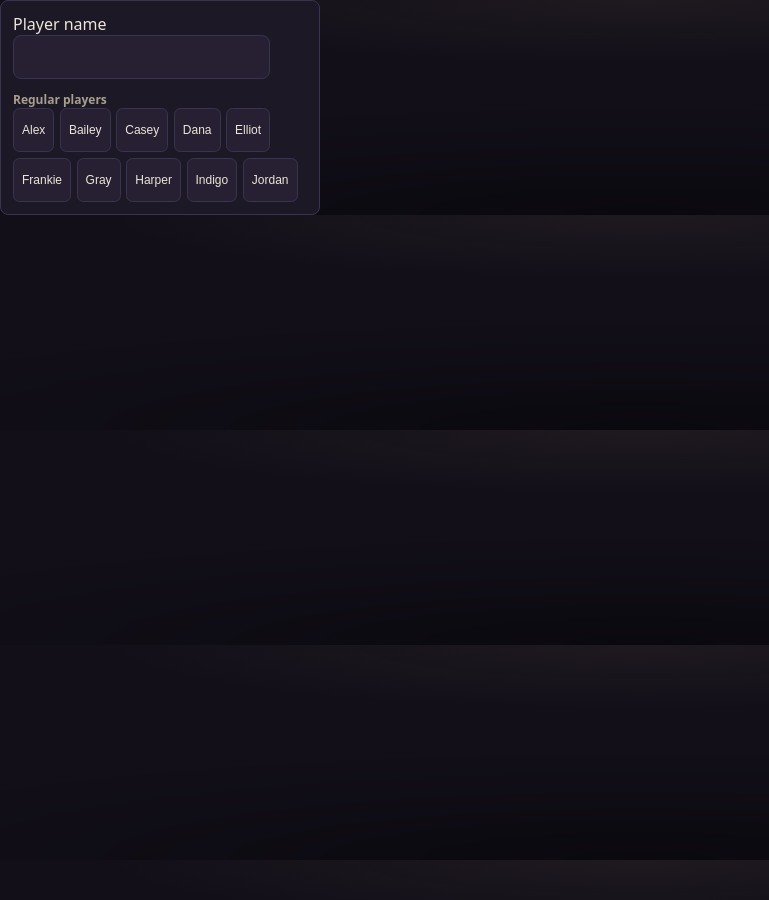
Scenario: a single merged input for searching and naming (issue #157) › narrows the list to names matching the typed text, case-insensitively
Type "jor" into the field at (142, 57), box 13,35 -> 270,79
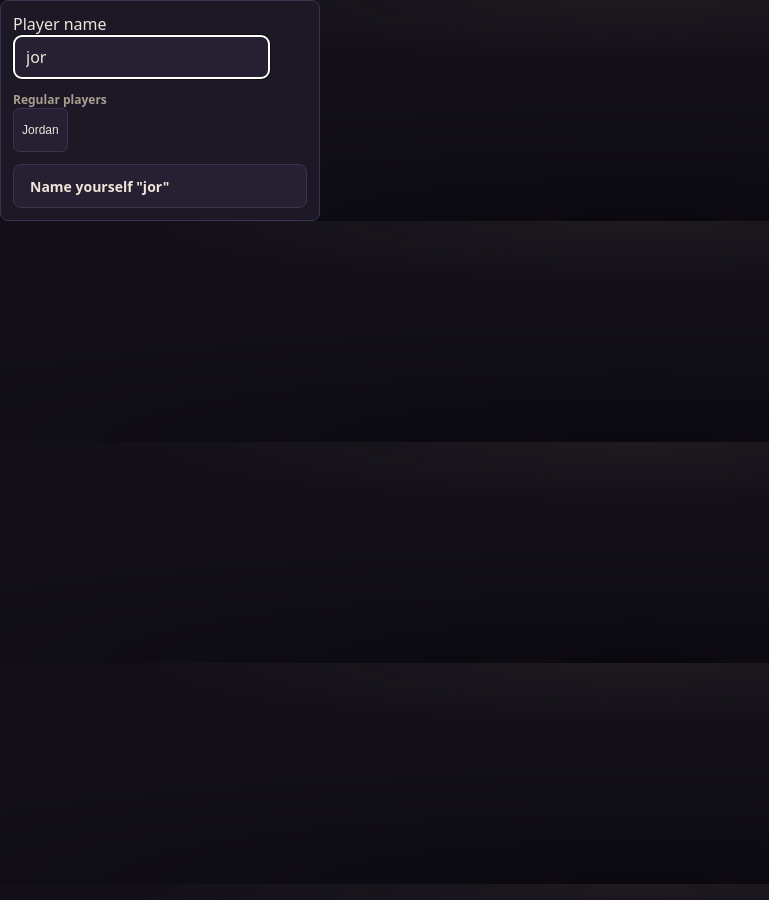
Expected: the button "Jordan" is shown, 13,108 -> 68,152
Expected: the button "Alex" is gone
